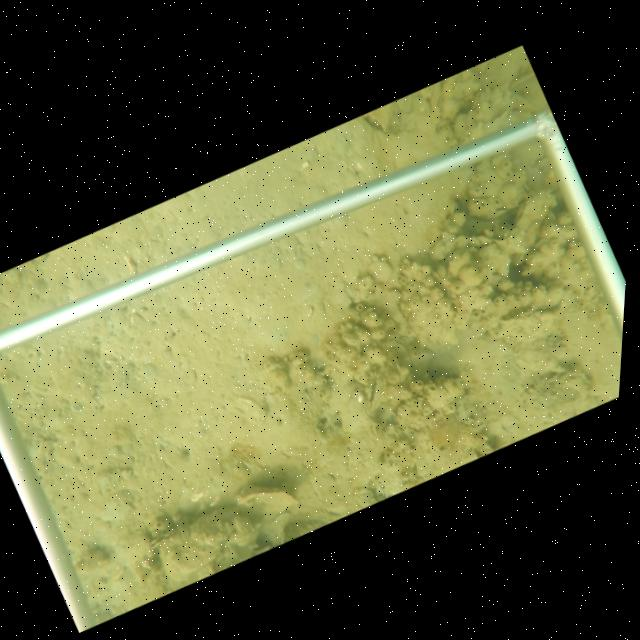Oyster-Closed: (455, 108, 535, 144), (514, 192, 558, 253), (234, 481, 299, 516)
Oyster-Open: (365, 371, 385, 411)
